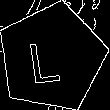L_N: (32, 30, 71, 85)
